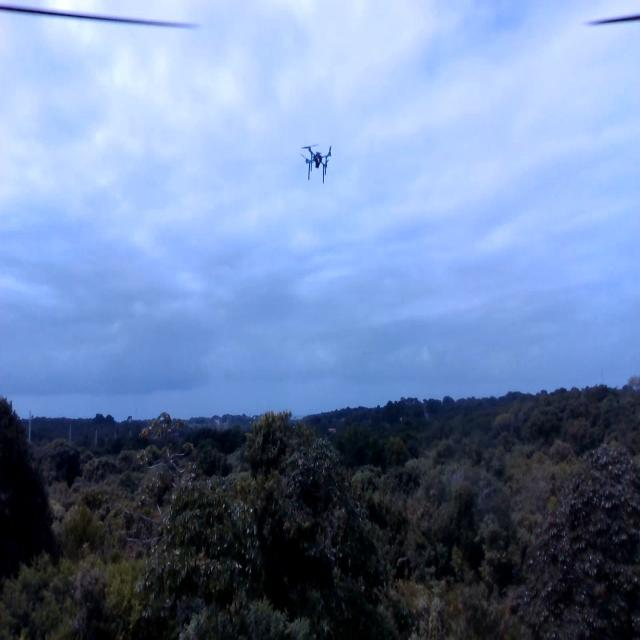-uav-: (293, 129, 337, 192)
